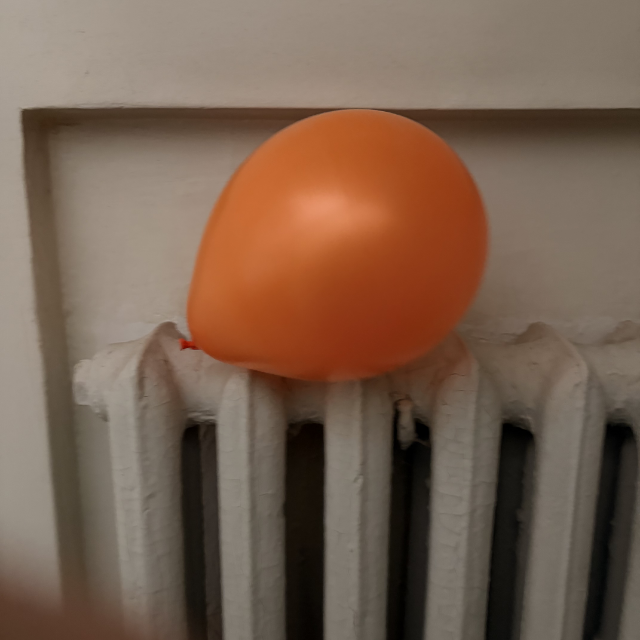balloon: (178, 108, 489, 381)
